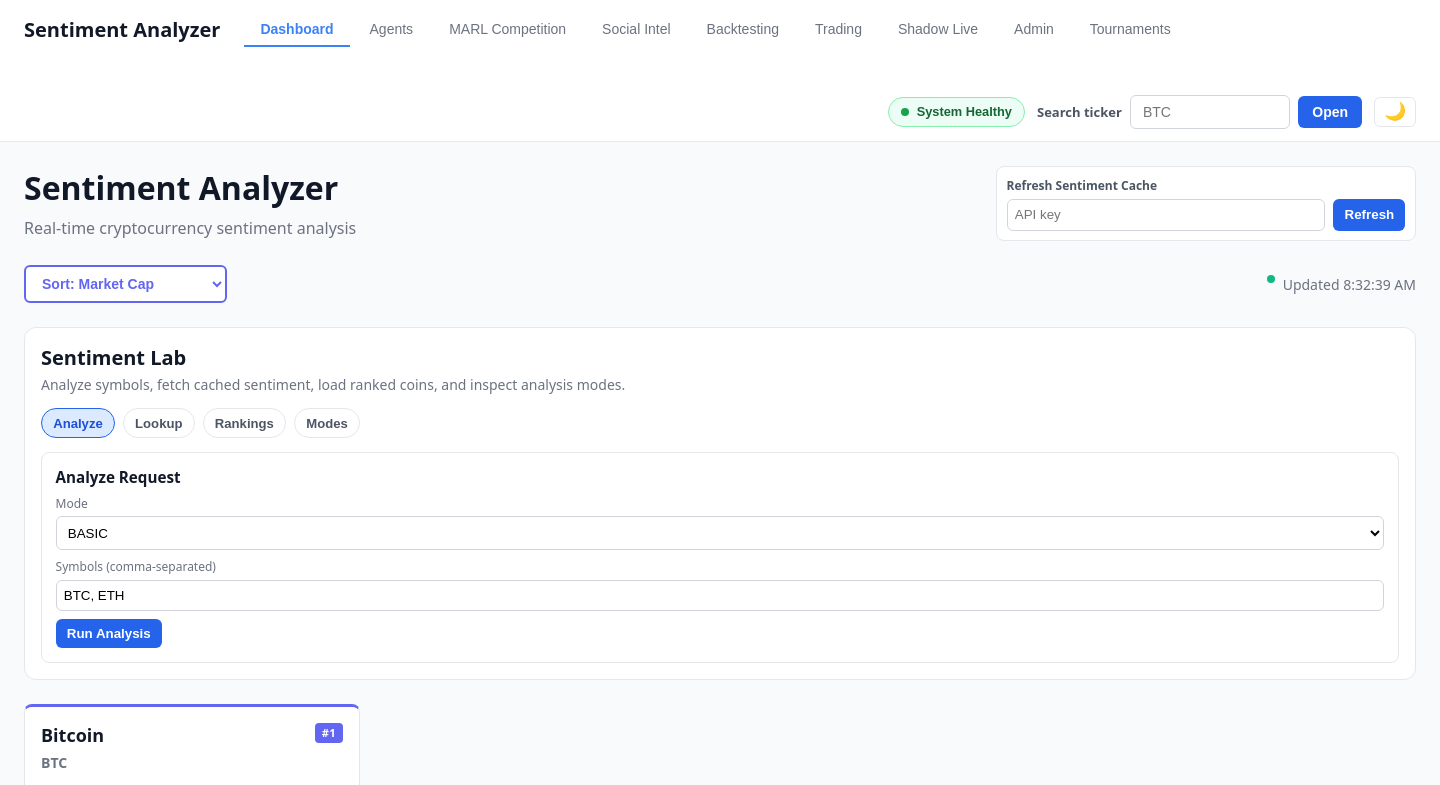
App detail modal › renders source breakdown and scored market signals in the detail modal
The width and height of the screenshot is (1440, 785).
What coordinates should you click on to do the following:
click the heading "Bitcoin"
I would click on:
 (73, 735)
Its box is [41,723,104,747].
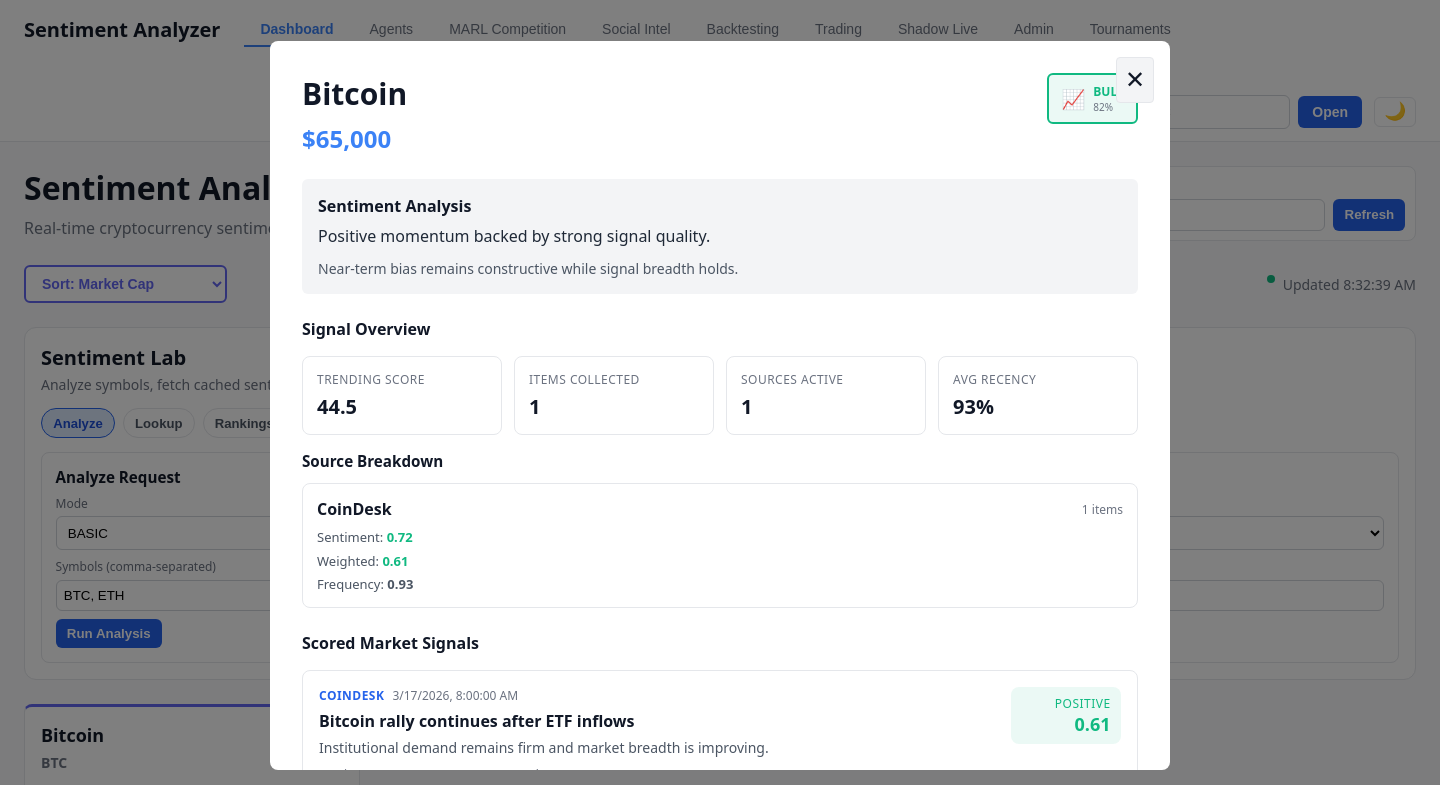
Check: the heading "Signal Overview" is shown, box [302,318,430,340]
Check: the heading "Source Breakdown" is shown, box [302,451,443,471]
Check: the heading "Scored Market Signals" is shown, box [302,632,479,654]
